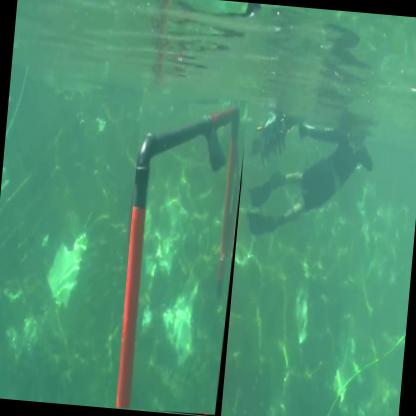gate: (116, 93, 251, 416)
